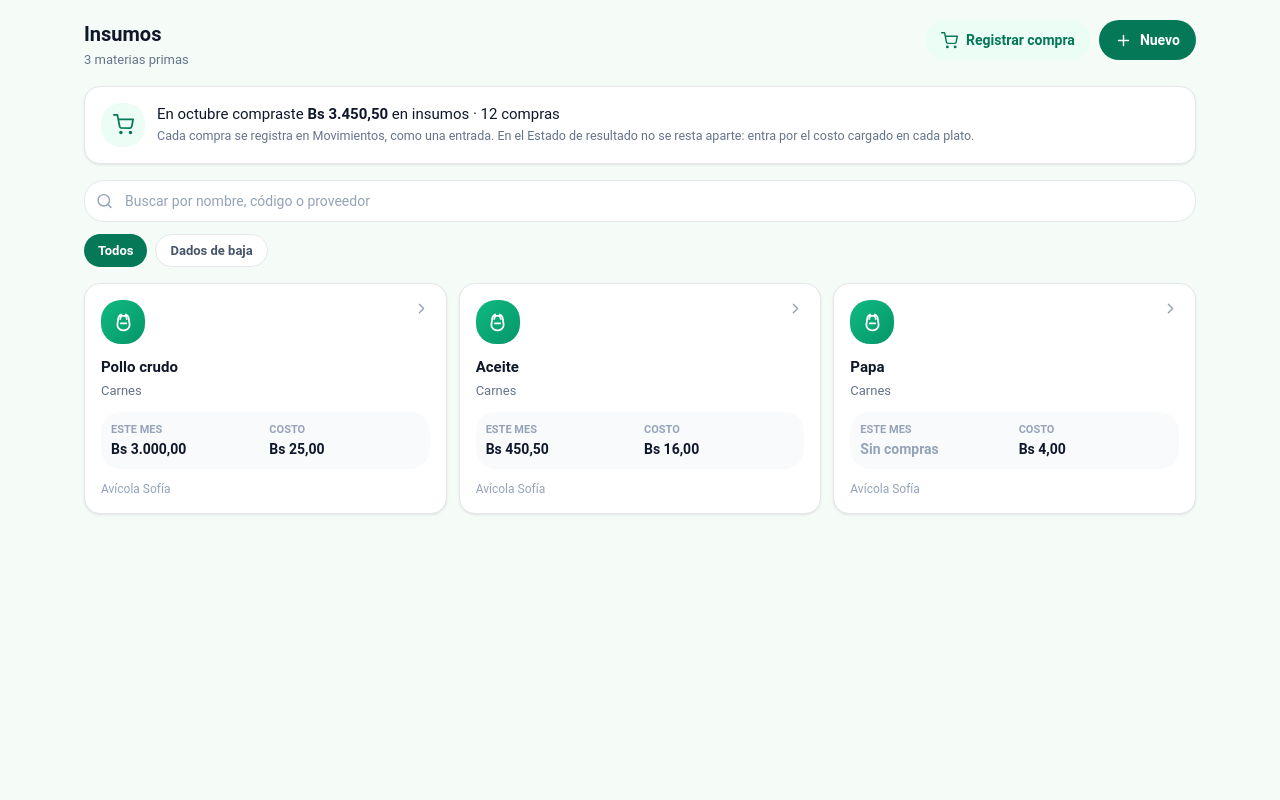
Test case: Restaurante: sin stock en ningún lado › el detalle no muestra stock, lo que vale, el punto de reorden ni el estado del stock
Check: the heading "Pollo crudo" is shown, box 101,358 -> 178,376
Click the button that starts with "Pollo crudo" at (123, 322), box 84,283 -> 447,514
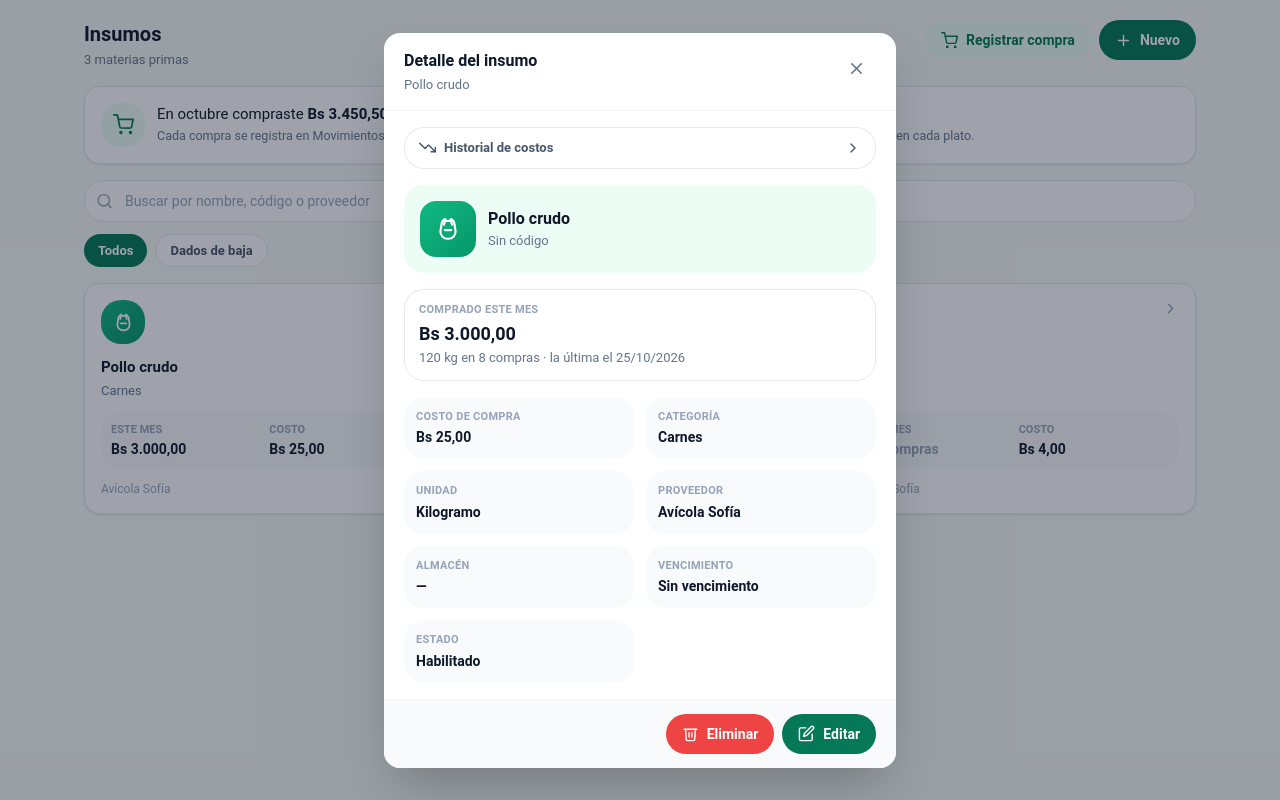
Check: the text "Costo de compra" is shown, box 416,410 -> 521,422
